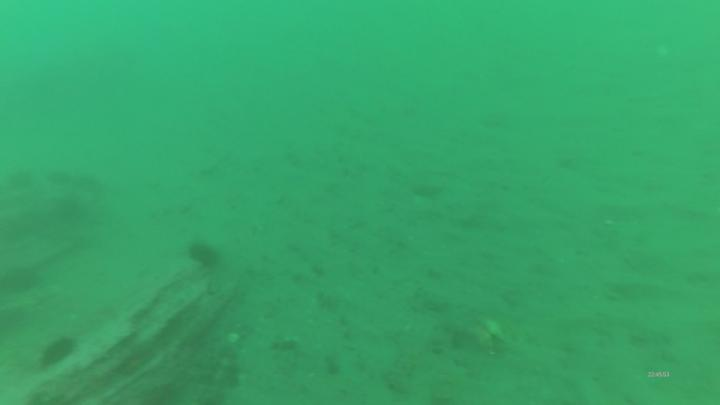echinus: (36, 336, 79, 369), (1, 266, 45, 295), (185, 238, 222, 272), (5, 167, 37, 196), (74, 175, 104, 196), (44, 168, 74, 188)
